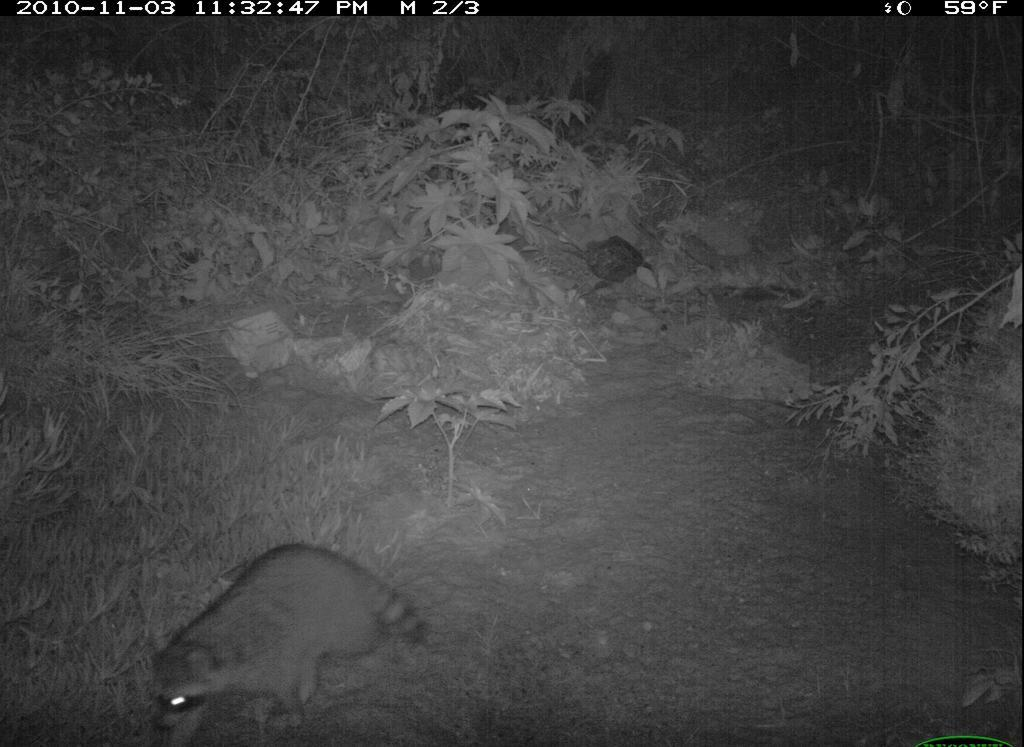raccoon: (145, 528, 434, 739)
